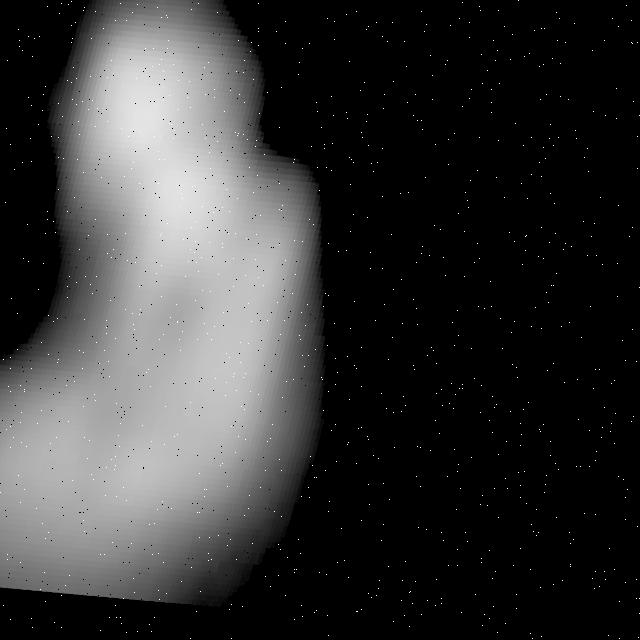person: (1, 1, 416, 640)
